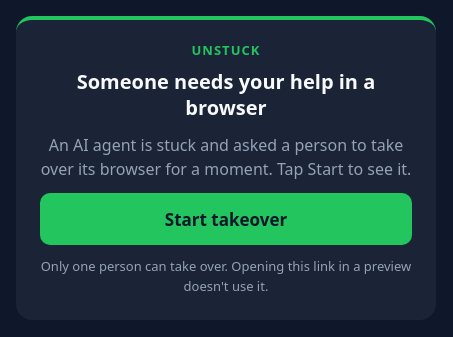
approval screen › a failed session after Show me the page shows the usual failed screen
What coordinates should you click on to do the following:
click the button "Start takeover"
I would click on:
 (226, 219)
Its box is [40,193,412,245].
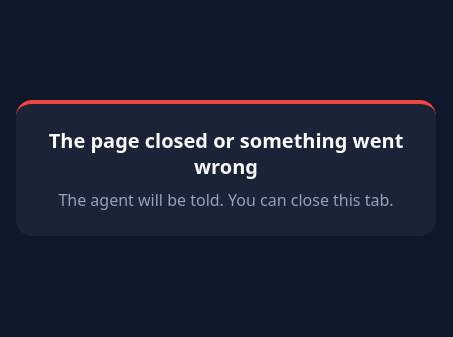
Expected: the heading "The page closed or something went wrong" is shown, [40,128,412,180]
